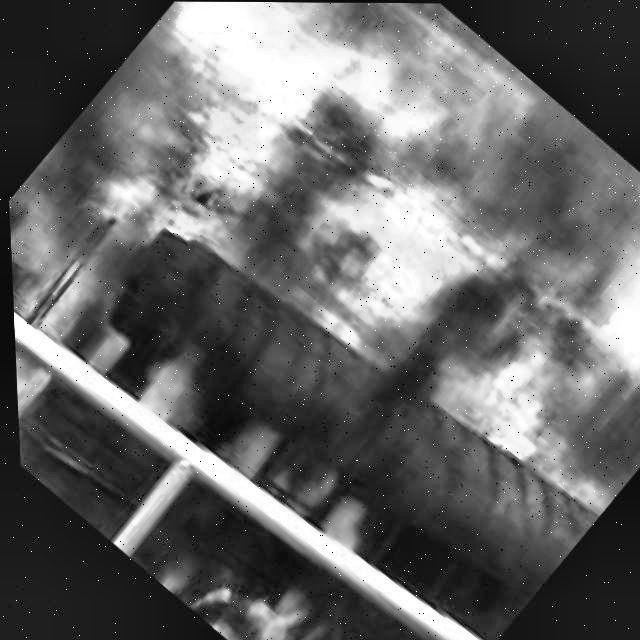Fire: (89, 312, 366, 556), (129, 492, 436, 640), (10, 298, 60, 464)
Smoke: (49, 0, 640, 506), (5, 141, 160, 359)
